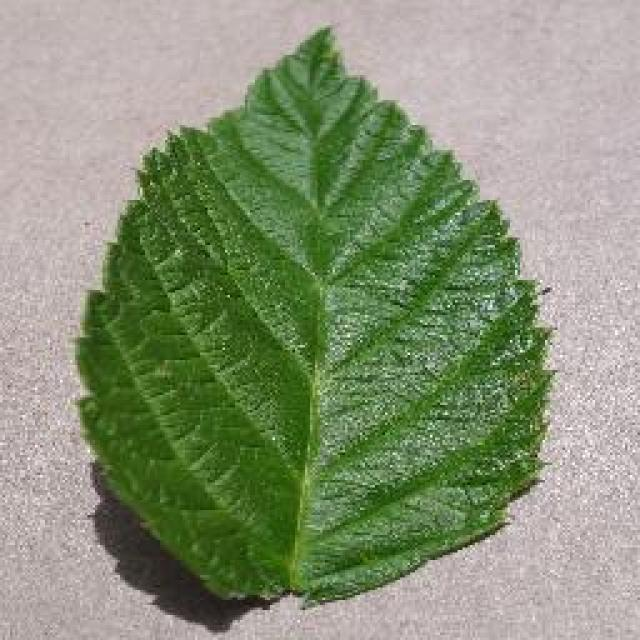Ras_healthy: (86, 112, 510, 563)
